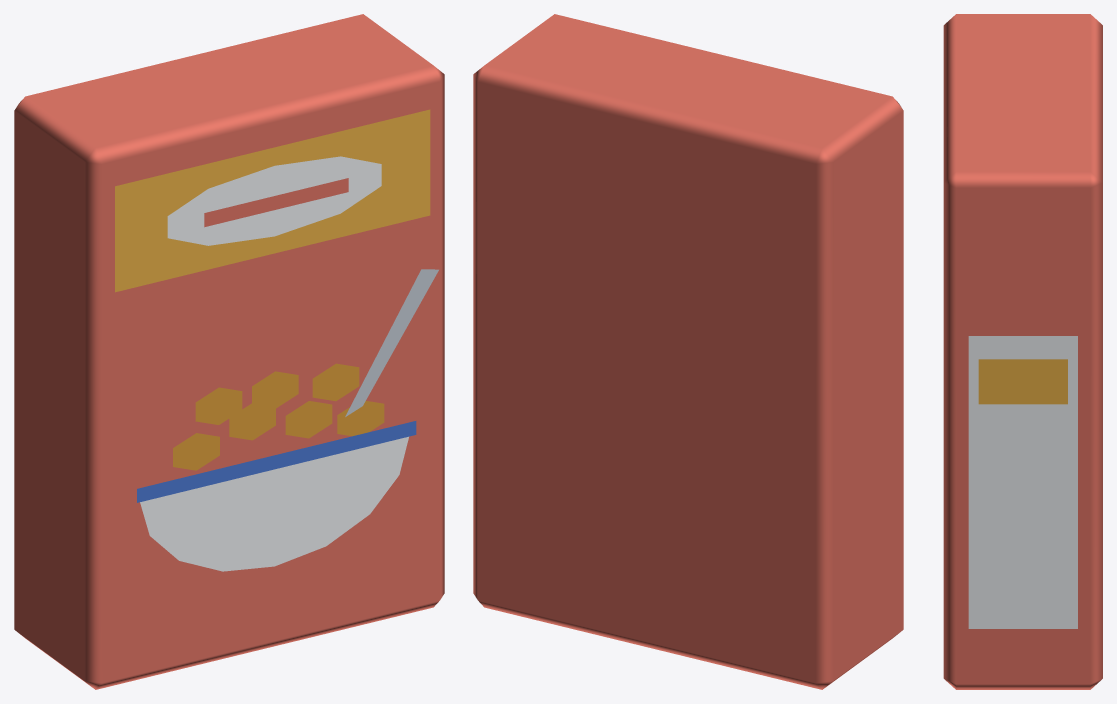
The model's file is CM_Product_CerealBox.fbx.
3 renders of one model, left to right at view 1: azimuth 30°, elevation 25°; view 2: azimuth 150°, elevation 25°; view 3: azimuth 270°, elevation 25°, orthographic. The views are drawn at different scales.
Visible parts, largest first — view 1: CerealBox; view 2: CerealBox; view 3: CerealBox.
Boxes of the visible parts, box(x1,y1,x2,y2) form: CerealBox: box(14, 14, 444, 689); CerealBox: box(473, 14, 903, 689); CerealBox: box(943, 14, 1102, 689).
Size of the model in its own units: 1.62 by 0.687 by 2.3.
1 material, 1 textured.
